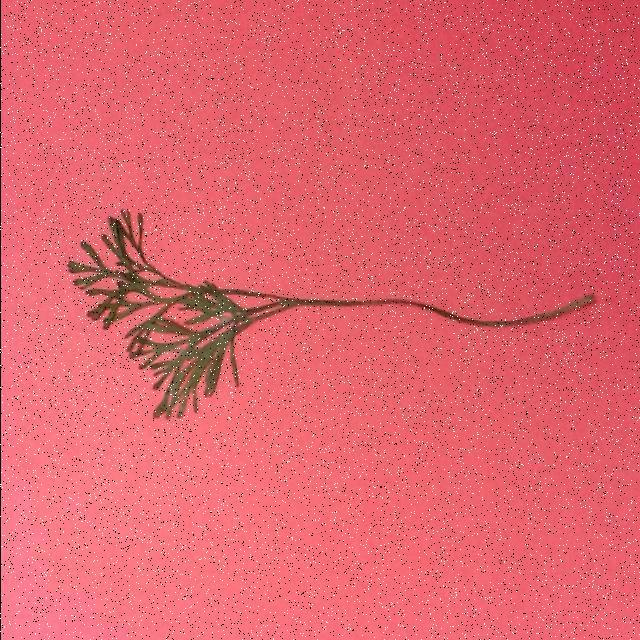foliage: (64, 210, 596, 422)
